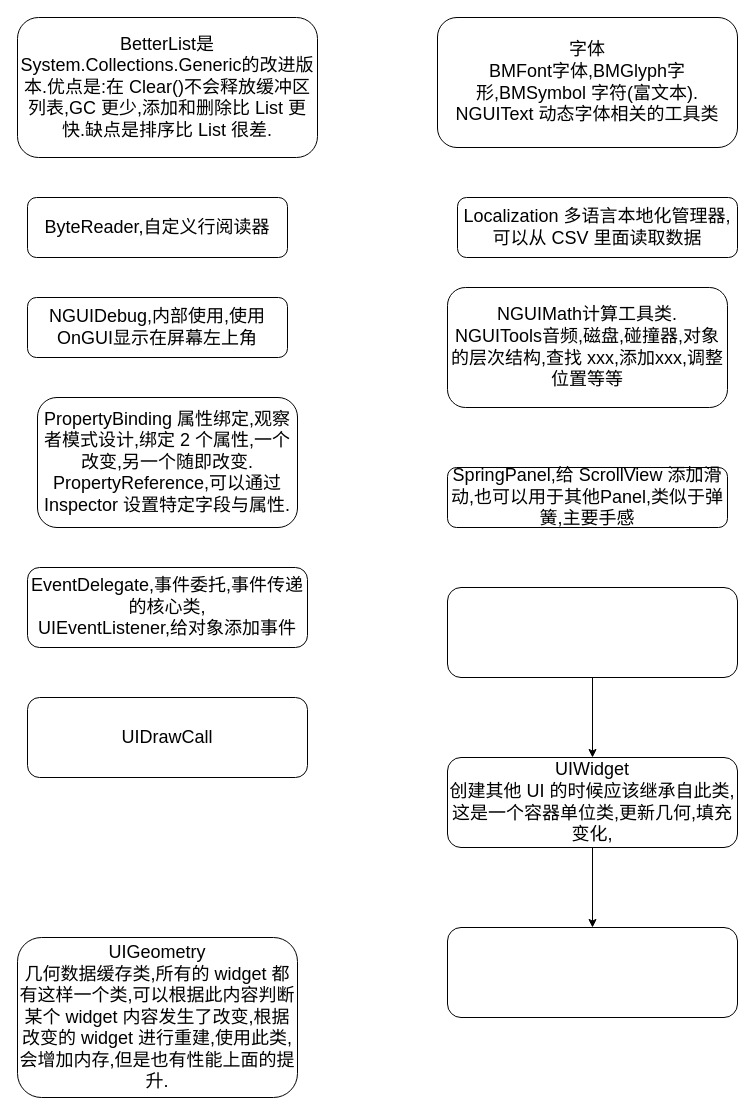
The diagram is 755 pixels wide and 1115 high, and some of its shapes have lost their labels. Here are the shapes that lost their labels. From the top down, the centre of each, then its label:
(x=592, y=632): UIRect 抽象的 UI 矩形,每个 UI 都在屏幕以矩形而展示,矩形是包含这个 UI 的边框,继承 Monobehaviour
(x=592, y=972): UIBasicSprite 主要是绘制 Sprite 的功能
